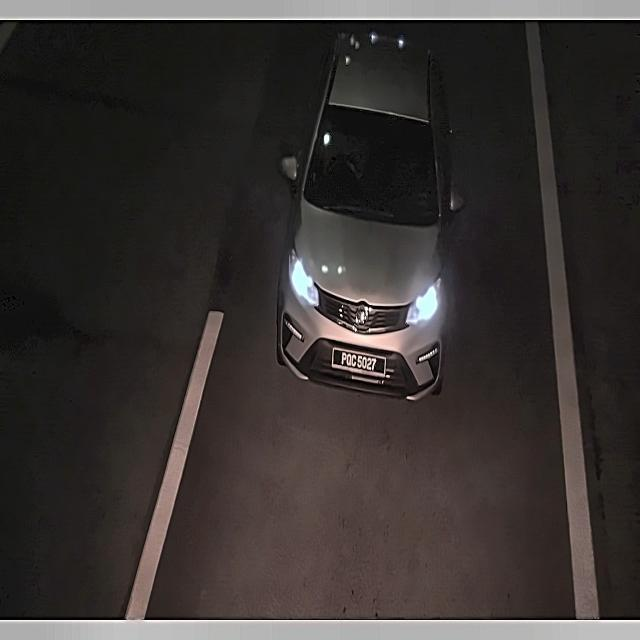car: (328, 342, 394, 381)
